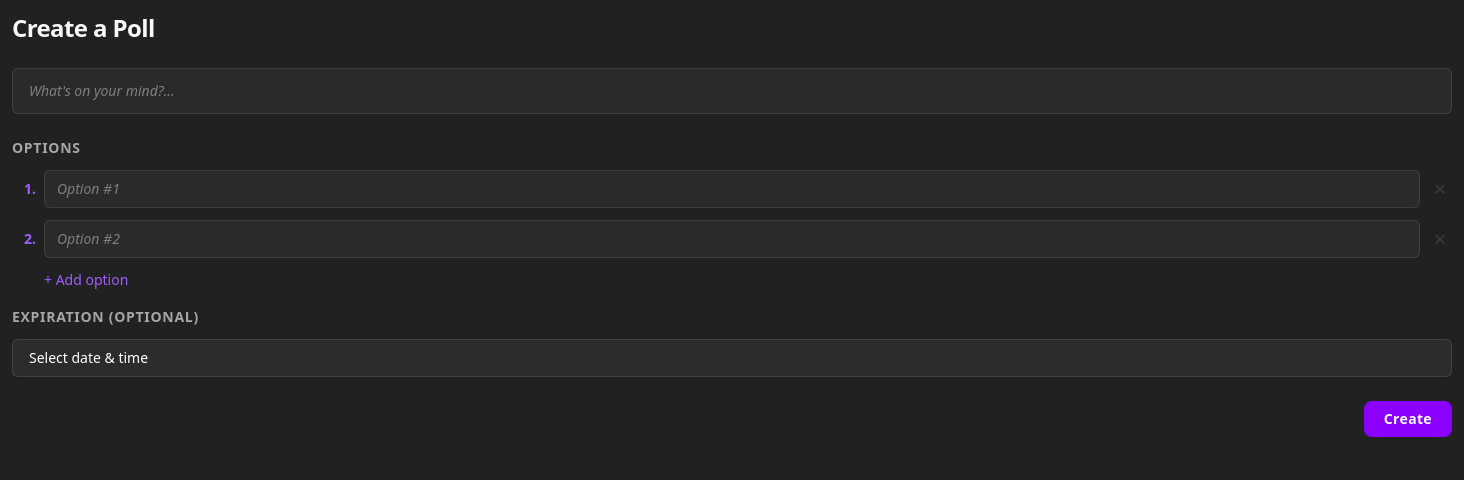
it: CreatePollPage › shows "Question is required" error when question is empty on submit
// Fill the options so that error is only about question
Type "A" into the field named "option 1". click: (732,189)
box: [44,170,1420,208]
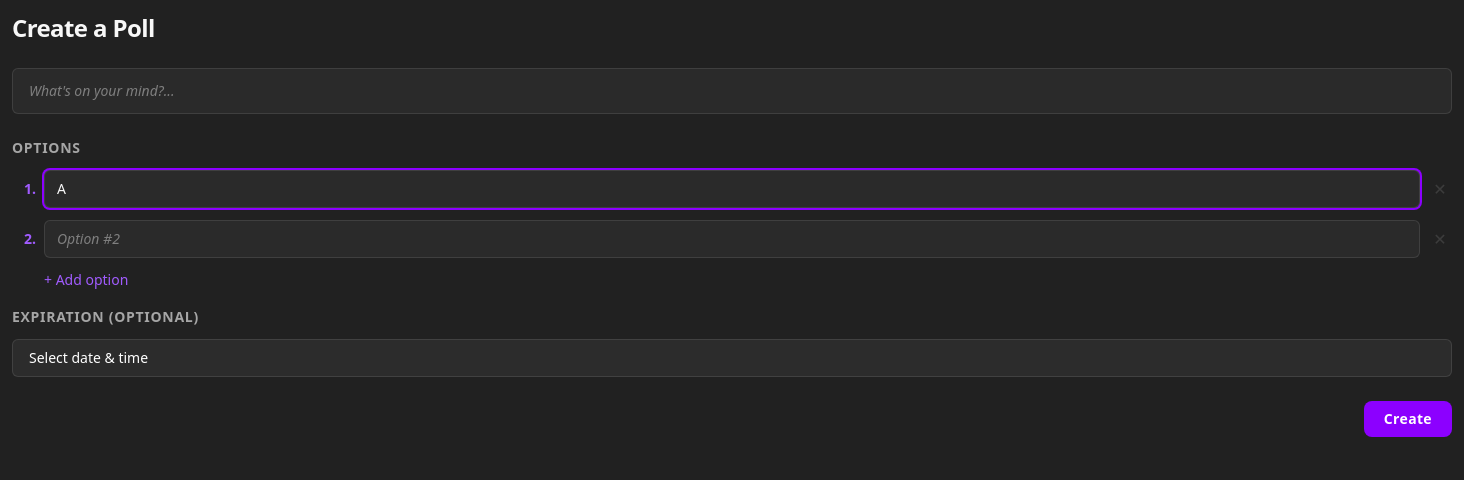
Type "B" into the field named "option 2". click: (732,239)
box: [44,220,1420,258]
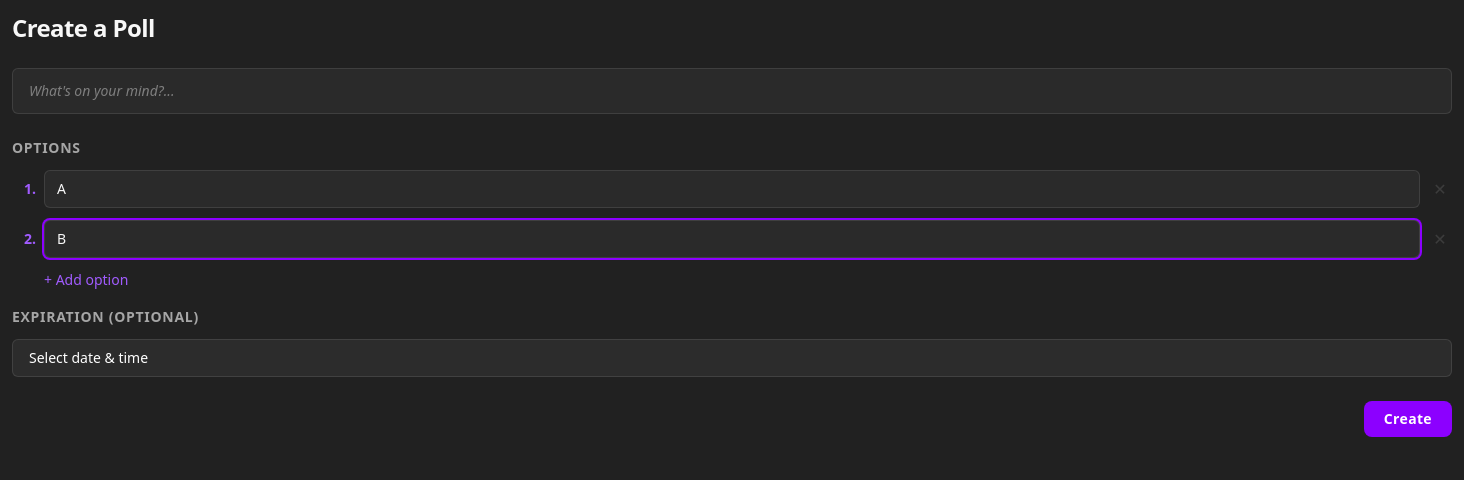
Click the button "Create". click: (1408,419)
box: [1364,401,1452,437]
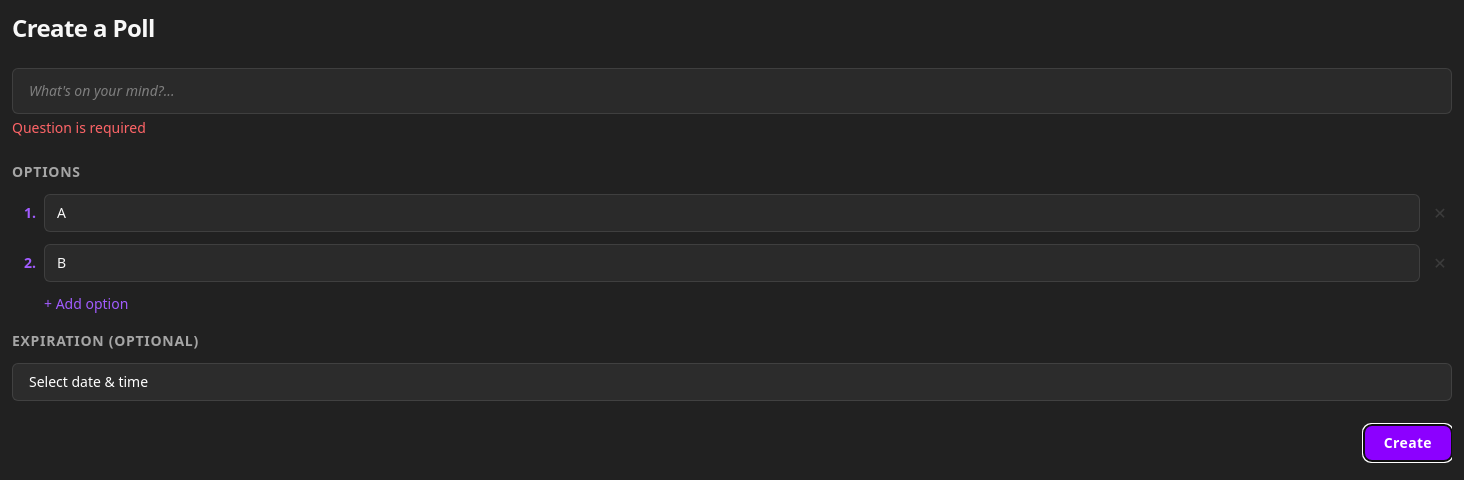
expect the text "Question is required" is shown: met, box [12,118,146,137]
